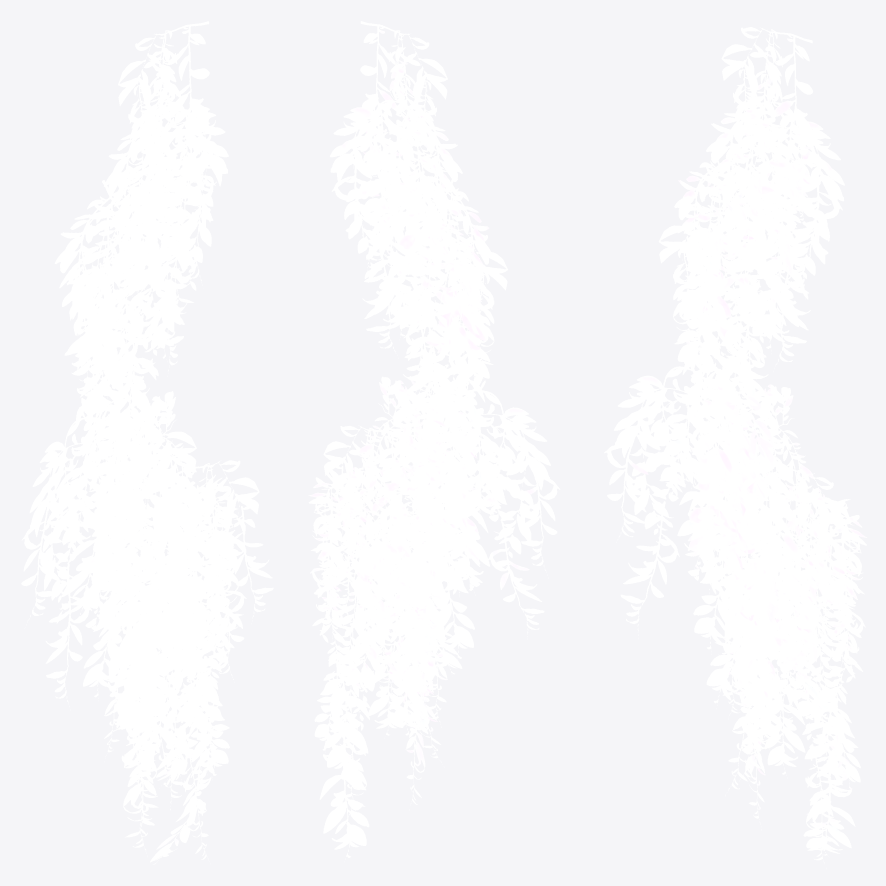
3 views of the same model, side by side, from view 1: azimuth 30°, elevation 25°; view 2: azimuth 150°, elevation 25°; view 3: azimuth 330°, elevation 25° (orthographic). The views are drawn at different scales.
Parts seen in each view (by area): view 1: SM_CliffTop_Ivy_01_LOD0; view 2: SM_CliffTop_Ivy_01_LOD0; view 3: SM_CliffTop_Ivy_01_LOD0.
Boxes of the visible parts, x1,y1,x2,y2 form: SM_CliffTop_Ivy_01_LOD0: (21,21,273,864); SM_CliffTop_Ivy_01_LOD0: (308,21,560,861); SM_CliffTop_Ivy_01_LOD0: (604,27,866,868).
Size of the model in its own units: 6.14 by 19.92 by 2.57.
Materials: 1 (1 with a texture image).
